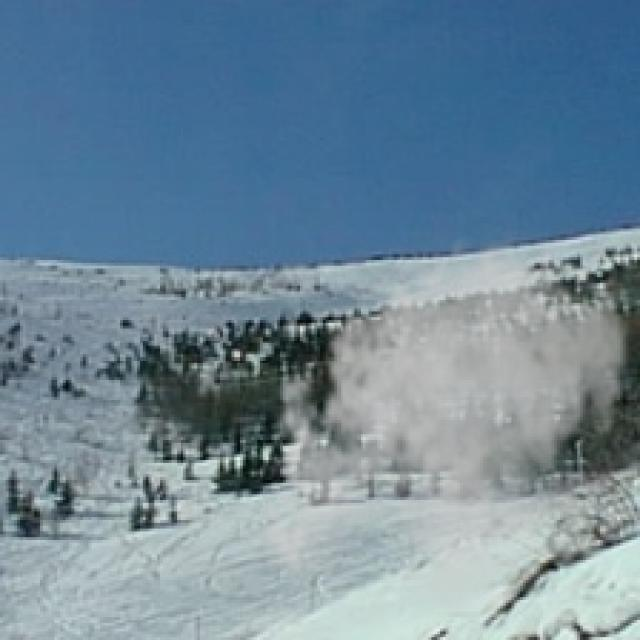smoke: (252, 229, 637, 617)
